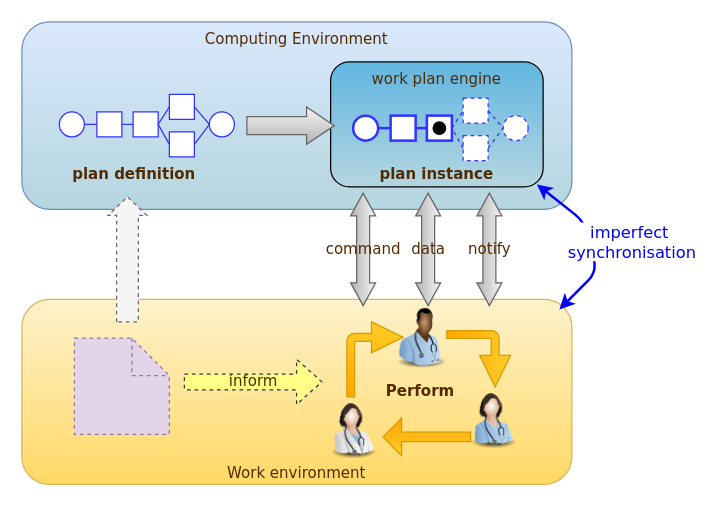
Image size: 718x506. Some labels were removed from this diagram. The centre of each missing label's shape, as x and y in pixels:
"design" belongs at point 127,259.
"instantiate" belongs at point 290,125.
"published guideline or pathway" belongs at point 121,385.
